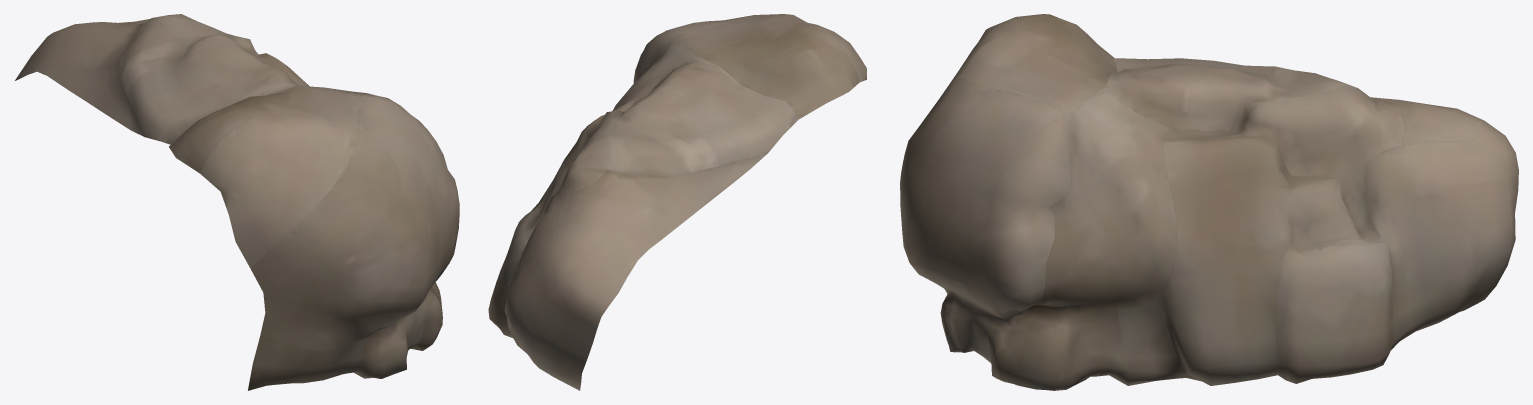
3 renders of one model, left to right at view 1: azimuth 30°, elevation 25°; view 2: azimuth 150°, elevation 25°; view 3: azimuth 270°, elevation 25°, orthographic. The views are drawn at different scales.
Parts seen in each view (by area): view 1: body0_model0_lod0_mesh0; view 2: body0_model0_lod0_mesh0; view 3: body0_model0_lod0_mesh0.
Part boxes in pixels (x1,y1,x2,y2): body0_model0_lod0_mesh0: [15, 14, 459, 390]; body0_model0_lod0_mesh0: [488, 14, 866, 390]; body0_model0_lod0_mesh0: [900, 14, 1518, 390].
Bounding box in the file's own units: 187 × 179 × 355.
Materials: 1 (1 with a texture image).
